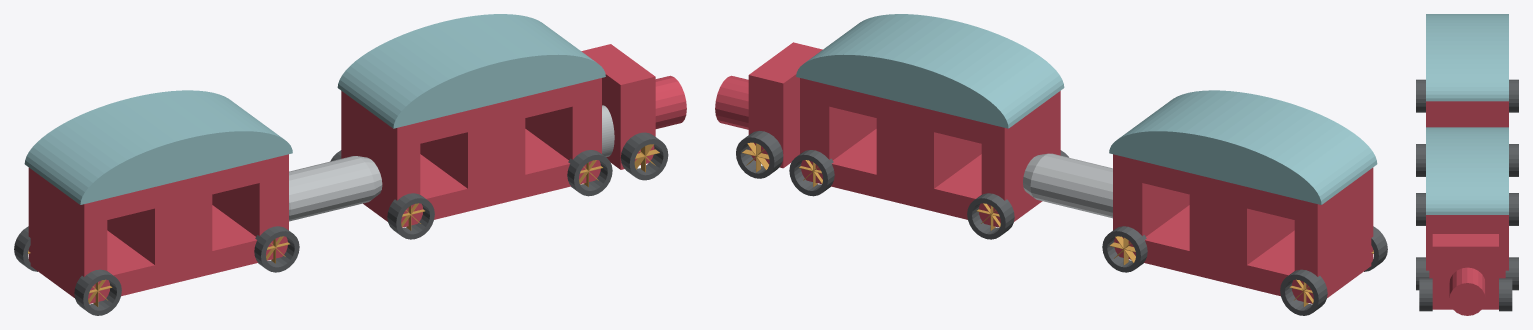
The model's file is train.glb.
3 renders of one model, left to right at view 1: azimuth 30°, elevation 25°; view 2: azimuth 150°, elevation 25°; view 3: azimuth 270°, elevation 25°, orthographic. The views are drawn at different scales.
Parts seen in each view (by area): view 1: Mesh_Mesh_head_geo.001_lambert2SG.001; view 2: Mesh_Mesh_head_geo.001_lambert2SG.001; view 3: Mesh_Mesh_head_geo.001_lambert2SG.001.
Boxes of the visible parts, left/top/right/bottom form: Mesh_Mesh_head_geo.001_lambert2SG.001: left=14, top=14, right=686, bottom=315; Mesh_Mesh_head_geo.001_lambert2SG.001: left=715, top=14, right=1387, bottom=315; Mesh_Mesh_head_geo.001_lambert2SG.001: left=1416, top=14, right=1518, bottom=315.
Bounding box in the file's own units: 162 × 37 × 31.
